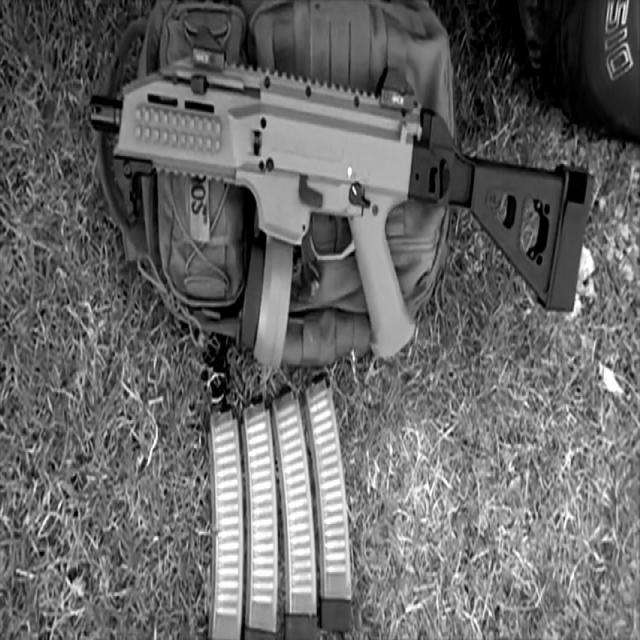Sub-machine-gun: (63, 0, 610, 465)
